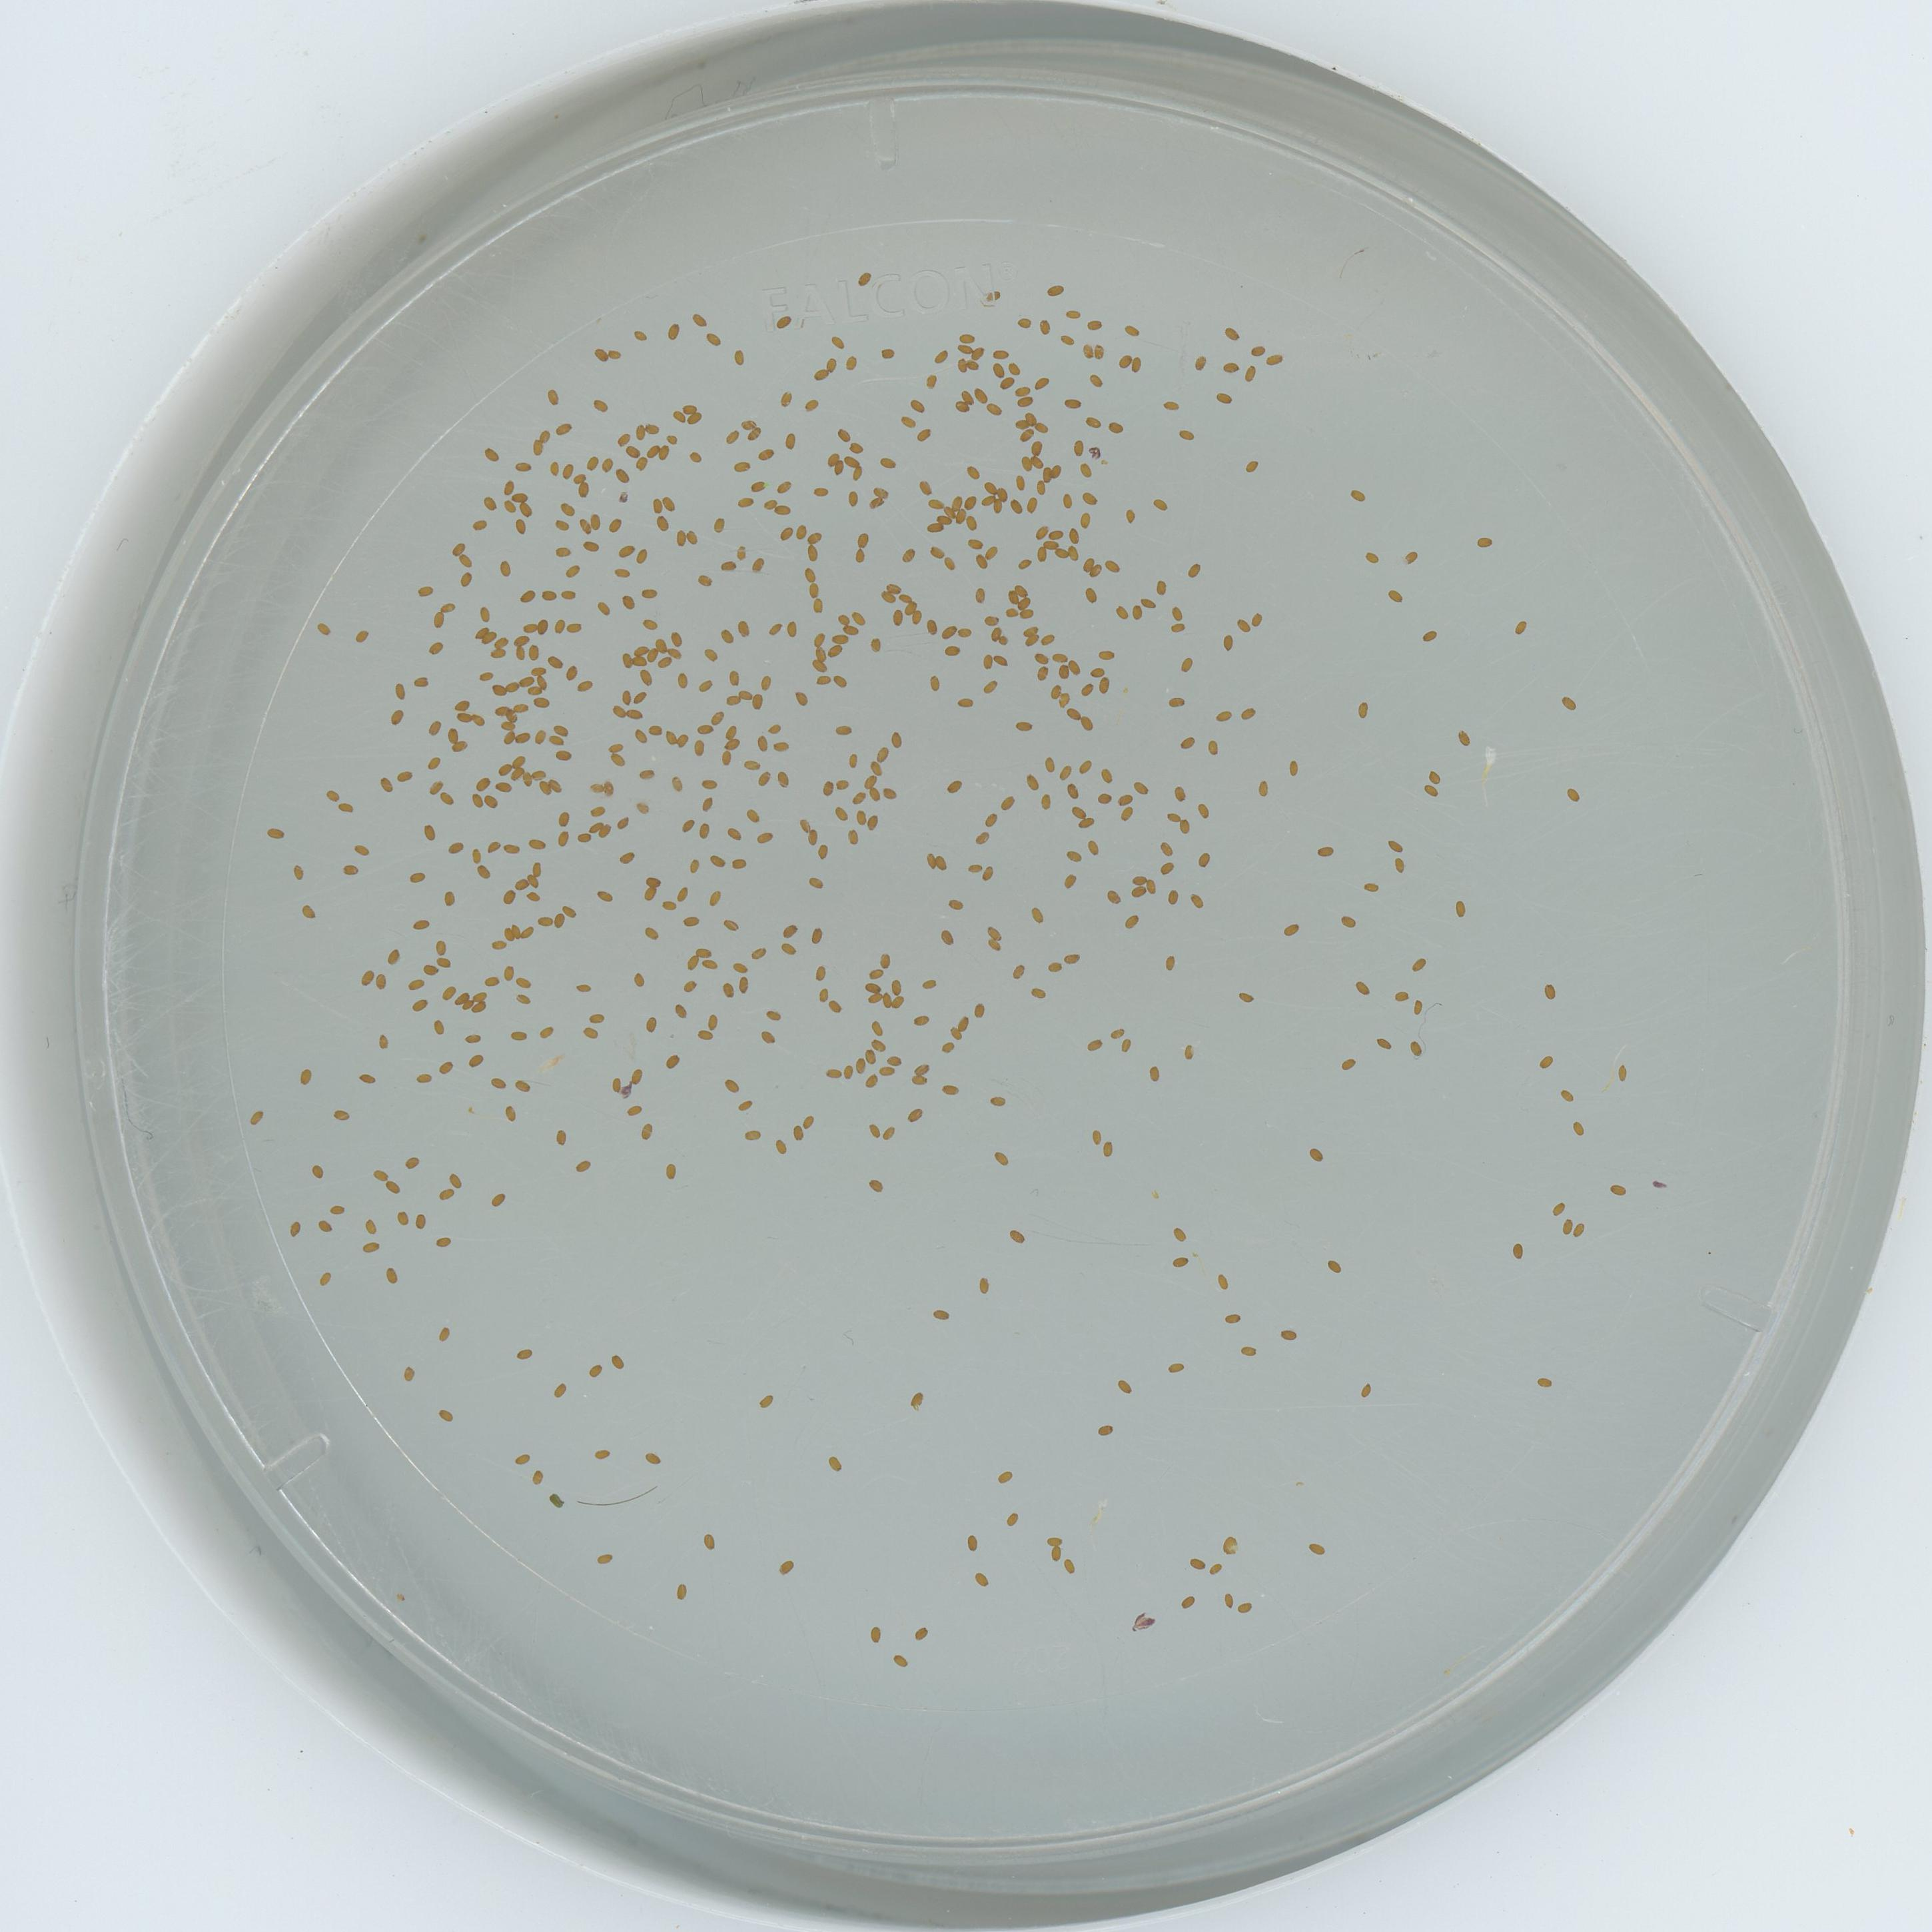seed: (775, 389, 796, 409), (421, 823, 441, 842), (1242, 364, 1261, 384), (1219, 1536, 1238, 1555), (955, 695, 977, 713), (412, 1210, 430, 1231), (448, 1169, 465, 1191), (502, 1104, 520, 1125), (1129, 356, 1146, 377), (426, 639, 446, 656), (545, 653, 564, 671), (718, 626, 736, 646), (637, 669, 655, 688), (451, 695, 471, 713), (605, 517, 625, 534), (782, 430, 800, 449), (653, 515, 672, 533), (755, 828, 775, 846), (548, 616, 568, 633), (663, 322, 683, 340), (556, 810, 575, 828), (906, 1104, 925, 1122), (869, 1175, 888, 1192), (554, 1127, 571, 1146), (248, 1108, 267, 1125), (1451, 899, 1468, 918), (1079, 488, 1099, 506), (1044, 280, 1063, 297), (1412, 955, 1431, 973), (1608, 1178, 1628, 1196), (1161, 952, 1177, 973), (660, 897, 678, 915), (809, 874, 826, 892), (483, 446, 501, 464), (938, 927, 955, 945), (448, 839, 465, 856), (418, 582, 435, 600), (690, 310, 708, 327), (725, 669, 743, 686), (706, 329, 724, 347), (754, 734, 771, 752), (439, 890, 456, 908), (387, 708, 405, 725), (640, 584, 658, 602), (476, 605, 494, 623), (780, 939, 798, 957), (750, 556, 768, 573), (481, 494, 499, 511), (734, 456, 752, 474), (846, 490, 863, 508), (556, 419, 573, 437), (614, 467, 632, 485), (925, 674, 943, 692), (685, 911, 702, 929), (561, 901, 579, 918), (391, 683, 409, 701), (793, 690, 810, 708), (695, 720, 713, 738), (497, 559, 515, 577), (616, 688, 633, 706), (736, 619, 754, 637), (587, 1361, 605, 1378), (701, 1532, 718, 1550), (908, 1391, 925, 1408), (552, 1380, 570, 1398), (893, 1651, 911, 1668), (932, 1304, 950, 1322), (724, 1076, 741, 1093), (672, 1582, 690, 1599), (869, 1624, 886, 1642), (357, 968, 375, 985), (382, 1267, 400, 1284), (642, 1016, 660, 1033), (991, 345, 1008, 363), (1010, 474, 1028, 492), (1139, 593, 1157, 610), (1353, 701, 1371, 718), (1385, 587, 1403, 605), (1062, 782, 1079, 800), (1316, 842, 1334, 860), (1106, 418, 1123, 435), (1081, 587, 1099, 605), (985, 924, 1003, 941), (1177, 656, 1194, 674), (1083, 839, 1100, 856), (1028, 906, 1046, 924), (1178, 1592, 1196, 1610), (971, 1001, 989, 1019), (1007, 1226, 1024, 1244), (991, 1148, 1008, 1166), (1115, 1376, 1132, 1394), (563, 563, 582, 579), (527, 837, 547, 853), (299, 901, 315, 920), (782, 922, 801, 938), (637, 766, 656, 782), (766, 621, 786, 637), (745, 809, 764, 824), (731, 349, 747, 368), (499, 890, 518, 906), (725, 826, 745, 842), (674, 888, 694, 904), (607, 740, 626, 755), (824, 448, 840, 467), (531, 695, 550, 711), (499, 478, 518, 494), (471, 625, 490, 640), (437, 1058, 456, 1074), (1069, 803, 1088, 819), (1177, 734, 1196, 750), (1115, 791, 1134, 807), (1095, 768, 1115, 784), (1062, 948, 1081, 964), (966, 359, 985, 375), (1373, 1033, 1392, 1049), (1095, 1422, 1115, 1438), (1279, 1325, 1299, 1341), (1559, 1217, 1575, 1237), (1238, 1341, 1258, 1357), (494, 704, 515, 718), (433, 955, 455, 970), (373, 971, 387, 993), (1081, 343, 1095, 364), (947, 897, 964, 913), (644, 872, 662, 888), (674, 672, 692, 688), (881, 453, 899, 469), (412, 672, 428, 690), (412, 915, 430, 931), (835, 426, 853, 442), (909, 396, 927, 412), (901, 412, 916, 430), (430, 612, 448, 628), (943, 642, 961, 658), (511, 518, 529, 534), (377, 777, 395, 793), (609, 754, 626, 770), (932, 349, 950, 364), (563, 665, 580, 681), (775, 478, 793, 494), (582, 538, 600, 554), (437, 791, 455, 807), (589, 803, 607, 819), (775, 773, 793, 789), (619, 594, 637, 610), (697, 571, 715, 587), (559, 499, 577, 515), (617, 851, 635, 867), (679, 817, 697, 833), (646, 722, 663, 738), (341, 862, 359, 878), (849, 439, 867, 455), (835, 777, 853, 793), (642, 925, 660, 941), (449, 541, 467, 557), (315, 621, 333, 637), (520, 617, 538, 633), (901, 547, 918, 563), (773, 738, 791, 754), (352, 842, 370, 858), (596, 888, 614, 904), (593, 396, 610, 412), (633, 548, 651, 564), (709, 708, 727, 724), (775, 313, 793, 329), (844, 356, 862, 372), (662, 495, 678, 513), (750, 943, 768, 959), (336, 800, 354, 816), (870, 481, 888, 497), (846, 830, 863, 846), (396, 768, 414, 784), (724, 724, 741, 740), (869, 761, 886, 777), (467, 793, 483, 810), (485, 839, 502, 855), (456, 571, 474, 587), (556, 830, 571, 847), (518, 587, 536, 603), (803, 396, 821, 412), (945, 778, 962, 794), (856, 531, 872, 548), (474, 775, 492, 791), (853, 548, 870, 564), (810, 925, 826, 943), (425, 755, 442, 771), (757, 674, 775, 690), (617, 543, 635, 559), (559, 462, 575, 479), (837, 722, 853, 740), (701, 775, 718, 791), (853, 609, 869, 626), (830, 333, 847, 349), (322, 787, 340, 803), (833, 807, 851, 823), (384, 947, 402, 962), (426, 780, 444, 796), (577, 678, 594, 694), (545, 387, 561, 405), (582, 455, 600, 471), (591, 345, 607, 363), (483, 794, 501, 810), (441, 598, 458, 614), (566, 619, 584, 635), (810, 598, 828, 614), (711, 515, 727, 533), (632, 690, 649, 706), (594, 600, 612, 616), (536, 426, 554, 442), (669, 777, 686, 793), (812, 628, 828, 646), (851, 465, 867, 483), (732, 545, 750, 561), (690, 741, 708, 757), (867, 787, 885, 803), (494, 780, 511, 796), (683, 955, 701, 971), (437, 984, 455, 1000), (870, 1021, 888, 1037), (778, 1559, 796, 1575), (317, 1217, 334, 1233), (915, 1060, 931, 1077), (464, 1028, 481, 1044), (400, 1366, 418, 1382), (538, 1023, 556, 1039), (515, 1345, 533, 1361), (430, 1017, 448, 1033), (515, 975, 533, 991), (437, 1185, 455, 1201), (764, 1007, 782, 1023), (628, 1069, 646, 1085), (789, 1123, 807, 1139), (490, 1191, 508, 1207), (437, 1407, 455, 1422), (610, 1352, 626, 1369), (361, 1238, 379, 1254), (582, 1023, 600, 1039), (771, 1138, 789, 1154), (359, 1069, 377, 1085), (911, 1072, 929, 1088), (596, 1550, 614, 1566), (888, 1049, 906, 1065), (663, 1053, 681, 1069), (297, 1065, 313, 1083), (646, 1449, 662, 1467), (639, 1122, 656, 1138), (513, 1451, 531, 1467), (395, 1208, 412, 1224), (361, 1217, 379, 1233), (869, 1037, 886, 1053), (759, 1392, 777, 1408), (957, 1014, 973, 1031), (1348, 487, 1366, 502), (1215, 389, 1233, 405), (966, 534, 984, 550), (1214, 708, 1231, 724), (1054, 764, 1072, 780), (1122, 913, 1139, 929), (1014, 718, 1031, 734), (1238, 706, 1256, 722), (1102, 557, 1120, 573), (1194, 853, 1212, 869), (1035, 318, 1053, 334), (1063, 847, 1081, 863), (1362, 881, 1380, 897), (1063, 395, 1081, 410), (1391, 858, 1408, 874), (1339, 913, 1357, 929), (984, 543, 1001, 559), (1192, 801, 1210, 817), (1152, 579, 1168, 596), (1014, 556, 1031, 571), (1116, 807, 1134, 823), (1083, 412, 1100, 428), (1095, 646, 1113, 662), (1023, 775, 1040, 791), (1031, 373, 1049, 389), (1104, 890, 1122, 906), (1219, 633, 1235, 651), (1476, 533, 1493, 548), (1421, 628, 1438, 644), (1049, 648, 1067, 663), (1131, 778, 1148, 794), (1095, 791, 1113, 807), (1074, 759, 1092, 775), (985, 400, 1003, 416), (1177, 425, 1194, 441), (1069, 441, 1086, 456), (993, 651, 1008, 669), (971, 586, 989, 602), (1566, 786, 1582, 803), (1426, 770, 1444, 786), (1085, 317, 1102, 333), (1060, 874, 1077, 890), (1026, 439, 1044, 455), (1168, 692, 1185, 708), (1283, 920, 1300, 936), (1254, 780, 1270, 798), (1150, 497, 1168, 513), (1422, 784, 1440, 800), (1111, 605, 1129, 621), (1169, 786, 1187, 801), (1223, 326, 1240, 341), (1076, 511, 1093, 527), (1263, 350, 1281, 366), (1560, 695, 1578, 711), (1077, 717, 1095, 732), (1454, 731, 1472, 747), (1187, 1555, 1205, 1571), (1058, 1559, 1076, 1575), (1541, 982, 1557, 1000), (1536, 1373, 1553, 1389), (1357, 1382, 1375, 1398), (1010, 962, 1026, 980), (1307, 1539, 1325, 1555), (1339, 1054, 1357, 1070), (1166, 1359, 1184, 1375), (1212, 1272, 1230, 1288), (973, 1571, 991, 1587), (1407, 1037, 1424, 1053), (1003, 1511, 1021, 1527), (966, 1534, 982, 1552), (1085, 1035, 1102, 1051), (1046, 1546, 1063, 1562), (1219, 1592, 1237, 1608), (1353, 980, 1371, 996), (1223, 1307, 1240, 1323), (1171, 1253, 1189, 1269), (1509, 1242, 1527, 1258), (1325, 1258, 1343, 1274), (1307, 1145, 1325, 1161), (977, 1276, 993, 1293), (1099, 1139, 1115, 1157), (849, 791, 869, 805), (925, 497, 945, 511), (915, 479, 934, 494), (955, 625, 975, 639), (957, 333, 977, 347), (975, 386, 989, 405), (1116, 352, 1131, 372), (1012, 384, 1031, 398), (1044, 961, 1063, 975), (456, 554, 472, 570), (426, 720, 442, 736), (915, 426, 931, 442), (616, 816, 632, 832), (823, 357, 839, 373), (501, 499, 517, 515), (740, 418, 755, 433), (527, 862, 543, 878), (750, 478, 766, 494), (920, 853, 936, 869), (766, 720, 782, 736), (701, 796, 717, 812), (869, 637, 885, 653), (924, 373, 939, 389), (890, 731, 906, 747), (724, 916, 740, 932), (541, 587, 557, 603), (759, 446, 775, 462), (409, 870, 425, 886), (725, 694, 741, 709), (529, 441, 545, 456), (669, 630, 685, 646), (625, 442, 640, 458), (708, 890, 724, 906), (807, 582, 823, 598), (354, 628, 370, 644), (738, 686, 754, 702), (554, 543, 570, 559), (853, 810, 869, 826), (697, 823, 713, 839), (635, 800, 651, 816), (527, 644, 543, 660), (731, 856, 747, 872), (786, 621, 801, 637), (686, 529, 702, 545), (934, 855, 950, 870), (561, 587, 577, 603), (878, 745, 893, 761), (525, 890, 541, 906), (725, 428, 741, 444), (883, 786, 899, 801), (267, 826, 283, 842), (699, 678, 715, 694), (821, 780, 837, 796), (878, 950, 893, 966), (686, 858, 702, 874), (469, 849, 485, 865), (814, 483, 830, 499), (881, 345, 897, 361), (858, 271, 874, 287), (805, 545, 821, 561), (642, 616, 658, 632), (633, 327, 649, 343), (757, 771, 773, 787), (888, 610, 904, 626), (646, 419, 662, 435), (671, 531, 686, 547), (556, 748, 571, 764), (814, 366, 830, 382), (444, 727, 460, 743), (616, 432, 632, 448), (614, 564, 630, 580), (688, 448, 704, 464), (632, 729, 648, 745), (536, 617, 552, 633), (777, 525, 793, 541), (472, 713, 488, 729), (600, 456, 616, 472), (545, 460, 561, 476), (796, 817, 812, 833), (520, 924, 536, 939), (554, 724, 570, 740), (550, 777, 566, 793), (846, 754, 862, 770), (607, 345, 623, 361), (575, 518, 591, 534), (941, 623, 957, 639), (577, 483, 593, 499), (816, 844, 832, 860), (525, 874, 541, 890), (589, 819, 605, 835), (924, 619, 939, 635), (610, 702, 626, 718), (747, 426, 763, 442), (805, 830, 821, 846), (589, 513, 605, 529), (718, 752, 734, 768), (954, 357, 970, 373), (941, 556, 957, 571), (812, 648, 828, 663), (913, 1010, 929, 1026), (384, 1178, 400, 1194), (405, 1154, 421, 1169), (372, 1166, 387, 1182), (941, 1079, 957, 1095), (869, 966, 885, 982), (287, 1221, 303, 1237), (626, 1099, 642, 1115), (736, 977, 752, 993), (913, 1624, 929, 1640), (704, 1012, 720, 1028), (467, 1051, 483, 1067), (632, 971, 648, 987), (501, 966, 517, 982), (883, 1122, 899, 1138), (816, 985, 832, 1001), (333, 1106, 349, 1122), (828, 1456, 844, 1472), (663, 1162, 679, 1178), (824, 1063, 840, 1079), (515, 991, 531, 1007), (317, 1270, 333, 1286), (435, 1325, 451, 1341), (416, 1069, 432, 1085), (515, 1076, 531, 1092), (683, 977, 699, 993), (867, 1120, 883, 1136), (814, 966, 830, 982), (575, 1157, 591, 1173), (310, 1162, 326, 1178), (453, 991, 469, 1007), (984, 612, 1000, 628), (1037, 794, 1053, 810), (1249, 612, 1265, 628), (1077, 683, 1093, 699), (1039, 755, 1054, 771), (1249, 340, 1265, 356), (1168, 605, 1184, 621), (1203, 740, 1219, 755), (1513, 619, 1529, 635), (1185, 561, 1201, 577), (1088, 663, 1104, 679), (1095, 679, 1111, 695), (1007, 359, 1023, 375), (1000, 796, 1016, 812), (1077, 462, 1093, 478), (1233, 617, 1249, 633), (1286, 761, 1302, 777), (1016, 313, 1031, 329), (1187, 893, 1203, 909), (1058, 331, 1074, 347), (966, 464, 982, 479), (989, 361, 1005, 377), (1157, 862, 1173, 878), (1244, 456, 1260, 472), (1162, 396, 1178, 412), (1086, 372, 1102, 387), (1016, 426, 1031, 442), (1065, 527, 1081, 543), (1387, 839, 1403, 855), (1031, 545, 1047, 561), (1023, 497, 1039, 513), (1058, 492, 1074, 508), (1403, 548, 1419, 564), (1031, 524, 1047, 540), (982, 814, 998, 830), (1129, 885, 1145, 901), (1016, 455, 1031, 471), (975, 830, 991, 846), (1122, 508, 1138, 524), (1065, 545, 1081, 561), (1129, 605, 1145, 621), (980, 867, 996, 883), (970, 343, 985, 359), (1394, 987, 1410, 1003), (996, 1468, 1012, 1484), (1182, 1042, 1198, 1058), (1108, 1023, 1123, 1039), (1146, 1063, 1162, 1079), (1116, 1037, 1132, 1053), (1207, 1560, 1223, 1576), (1171, 1226, 1187, 1242), (1537, 1051, 1553, 1067), (989, 1092, 1005, 1108), (1571, 1118, 1587, 1134), (1573, 1221, 1589, 1237), (828, 644, 846, 658), (502, 842, 520, 856), (702, 648, 720, 662), (720, 559, 738, 573), (548, 732, 566, 747), (554, 517, 571, 531), (488, 683, 506, 697), (709, 855, 727, 869), (745, 757, 763, 771), (476, 669, 494, 683), (474, 865, 492, 879), (886, 579, 904, 593), (632, 655, 649, 669), (816, 674, 833, 688), (451, 740, 469, 754), (738, 494, 755, 508), (656, 656, 674, 671), (832, 462, 846, 479), (598, 824, 616, 839), (531, 663, 548, 678), (494, 635, 511, 649), (810, 658, 828, 672), (587, 1008, 605, 1023), (327, 1201, 345, 1215), (410, 998, 428, 1012), (483, 973, 501, 987), (759, 1028, 777, 1042), (433, 1233, 451, 1247), (826, 998, 844, 1012), (865, 1047, 879, 1065), (865, 982, 883, 996), (1062, 708, 1079, 722), (1031, 667, 1049, 681), (1157, 842, 1175, 856), (1001, 605, 1019, 619), (1122, 322, 1139, 336), (1223, 359, 1240, 373), (998, 375, 1016, 389), (1005, 499, 1023, 513), (1051, 548, 1069, 563), (1021, 633, 1039, 648), (1003, 591, 1021, 605), (1023, 623, 1040, 637), (1028, 985, 1046, 1000), (1044, 1532, 1062, 1546), (1557, 1086, 1575, 1100), (625, 708, 644, 720), (695, 945, 715, 957), (731, 961, 750, 973), (1014, 395, 1033, 407), (1093, 341, 1106, 361), (458, 1000, 478, 1012), (671, 409, 686, 423), (801, 566, 817, 580), (536, 913, 552, 927), (869, 497, 885, 511), (290, 867, 306, 881), (833, 674, 849, 688), (513, 878, 529, 892), (515, 458, 531, 472), (681, 402, 697, 416), (642, 888, 658, 902), (513, 633, 529, 648), (665, 432, 681, 446), (433, 939, 449, 954), (577, 832, 593, 846), (633, 456, 649, 471), (492, 938, 508, 952), (472, 517, 488, 531), (531, 766, 547, 780), (867, 816, 881, 832), (490, 648, 506, 662), (501, 732, 517, 747), (455, 711, 471, 725), (554, 913, 570, 927), (881, 591, 897, 605), (633, 425, 648, 441), (513, 488, 529, 502), (633, 642, 649, 656), (515, 731, 531, 745), (832, 632, 847, 646), (750, 695, 766, 709), (775, 502, 791, 517), (655, 637, 669, 653), (929, 545, 945, 559), (656, 444, 671, 460), (688, 412, 704, 426), (649, 497, 663, 513), (511, 754, 527, 768), (617, 653, 633, 667), (538, 780, 552, 796), (533, 731, 548, 745), (842, 625, 858, 639), (571, 471, 587, 485), (667, 648, 683, 662), (955, 400, 971, 414), (863, 775, 879, 789), (603, 780, 617, 796), (902, 602, 918, 616), (499, 720, 520, 731), (481, 630, 497, 644), (674, 1003, 690, 1017), (922, 977, 938, 991), (738, 1097, 754, 1111), (697, 1028, 713, 1042), (511, 1028, 527, 1042), (594, 1445, 610, 1460), (529, 1470, 545, 1484), (490, 1074, 506, 1088), (939, 1039, 955, 1053), (890, 978, 906, 993), (407, 977, 423, 991), (720, 982, 736, 996), (745, 1125, 761, 1139), (801, 1113, 817, 1127), (863, 1074, 879, 1088), (853, 1058, 869, 1072), (472, 991, 488, 1005), (1031, 651, 1047, 665), (982, 679, 998, 694), (1077, 817, 1093, 832), (1192, 356, 1208, 370), (1031, 481, 1047, 495), (1164, 890, 1180, 904), (1049, 685, 1065, 699), (1364, 550, 1378, 566), (1129, 872, 1145, 886), (1065, 306, 1081, 320), (1039, 633, 1054, 648), (966, 515, 980, 531), (966, 862, 982, 876), (1067, 660, 1083, 674), (1164, 810, 1180, 824), (978, 655, 994, 669), (994, 487, 1008, 502), (1056, 692, 1070, 708), (1056, 665, 1070, 681), (1039, 467, 1053, 483), (1047, 525, 1063, 540), (1012, 582, 1028, 596), (1169, 621, 1185, 635), (1030, 453, 1044, 469), (989, 501, 1003, 517), (994, 633, 1010, 648), (1079, 556, 1093, 571), (985, 287, 1001, 301), (1552, 1200, 1568, 1214), (1237, 989, 1253, 1003), (1408, 1000, 1424, 1014), (1237, 1599, 1253, 1614), (1088, 1127, 1102, 1143), (1615, 1063, 1629, 1079), (961, 391, 977, 405), (957, 343, 973, 357), (506, 708, 520, 724), (725, 738, 743, 750), (1086, 564, 1104, 577), (1012, 418, 1030, 430), (701, 957, 718, 970), (510, 704, 529, 715), (469, 1001, 488, 1012), (513, 648, 527, 662), (809, 531, 823, 545), (518, 502, 533, 517), (676, 732, 690, 747), (644, 444, 658, 458), (663, 731, 678, 745), (911, 610, 925, 625), (796, 524, 810, 538), (495, 763, 510, 777), (520, 674, 534, 688), (952, 494, 966, 508), (506, 679, 520, 694), (646, 648, 660, 662), (879, 1063, 893, 1077), (375, 1033, 389, 1047), (893, 994, 908, 1008), (1145, 879, 1159, 893), (973, 556, 987, 570), (1177, 821, 1191, 835), (982, 479, 996, 494), (987, 628, 1001, 642), (1049, 464, 1063, 478), (1017, 596, 1031, 610), (971, 345, 985, 359), (525, 685, 541, 697), (927, 524, 943, 536), (897, 591, 913, 603), (763, 499, 778, 511), (936, 515, 952, 527), (837, 610, 849, 626), (538, 676, 550, 692), (575, 980, 591, 993), (610, 1077, 623, 1093), (1033, 421, 1049, 433), (980, 494, 996, 506), (1021, 410, 1037, 423), (1019, 609, 1035, 621), (985, 939, 1001, 952), (941, 504, 957, 517), (955, 508, 966, 525), (520, 770, 531, 787), (844, 458, 862, 469), (948, 1026, 962, 1039), (869, 993, 883, 1005), (844, 1063, 856, 1077), (881, 994, 893, 1008), (1044, 538, 1058, 550), (510, 925, 522, 939), (966, 495, 977, 511), (587, 782, 603, 793), (423, 966, 441, 975), (395, 1592, 407, 1605), (504, 925, 515, 939), (510, 770, 524, 780)
